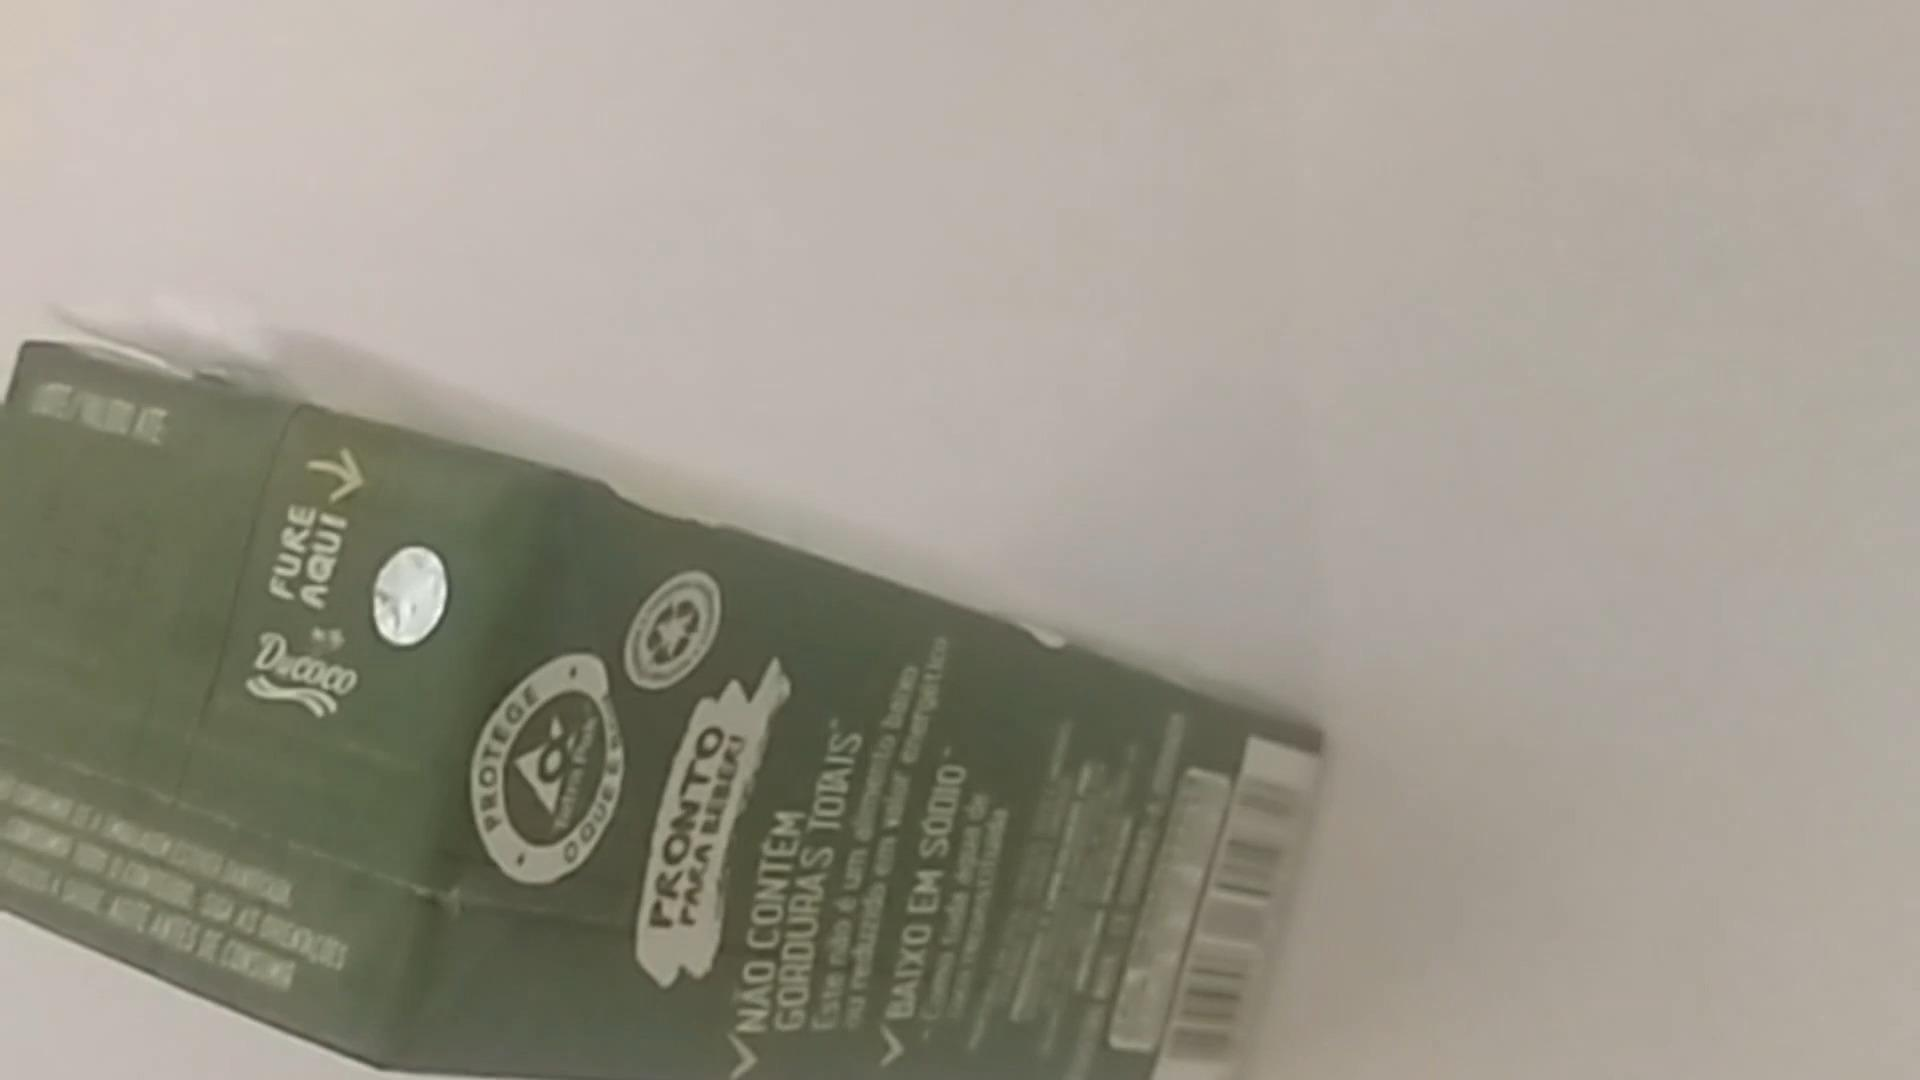coco: (17, 338, 1324, 1080)
